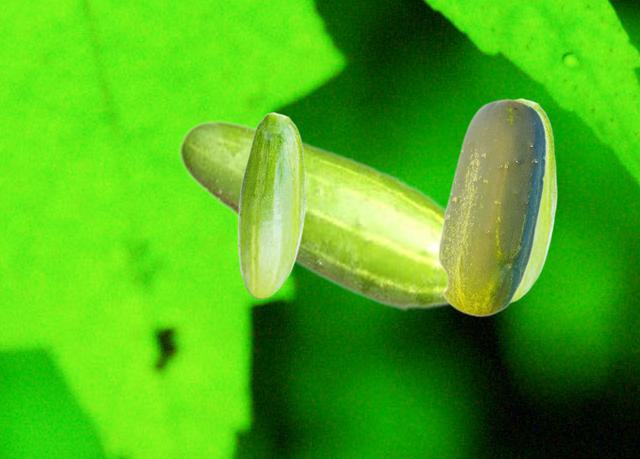cucumber: (178, 119, 452, 311), (437, 98, 545, 316), (237, 112, 305, 298), (512, 98, 556, 302)
